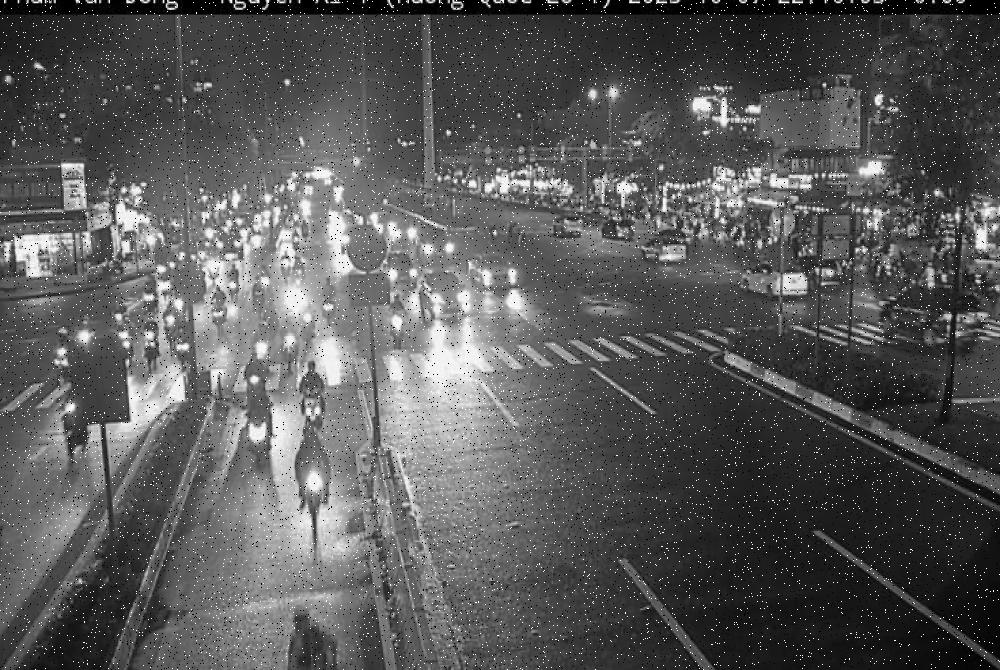car: (880, 285, 987, 357), (740, 264, 810, 298), (419, 269, 464, 320), (466, 254, 516, 290), (643, 237, 688, 267)
